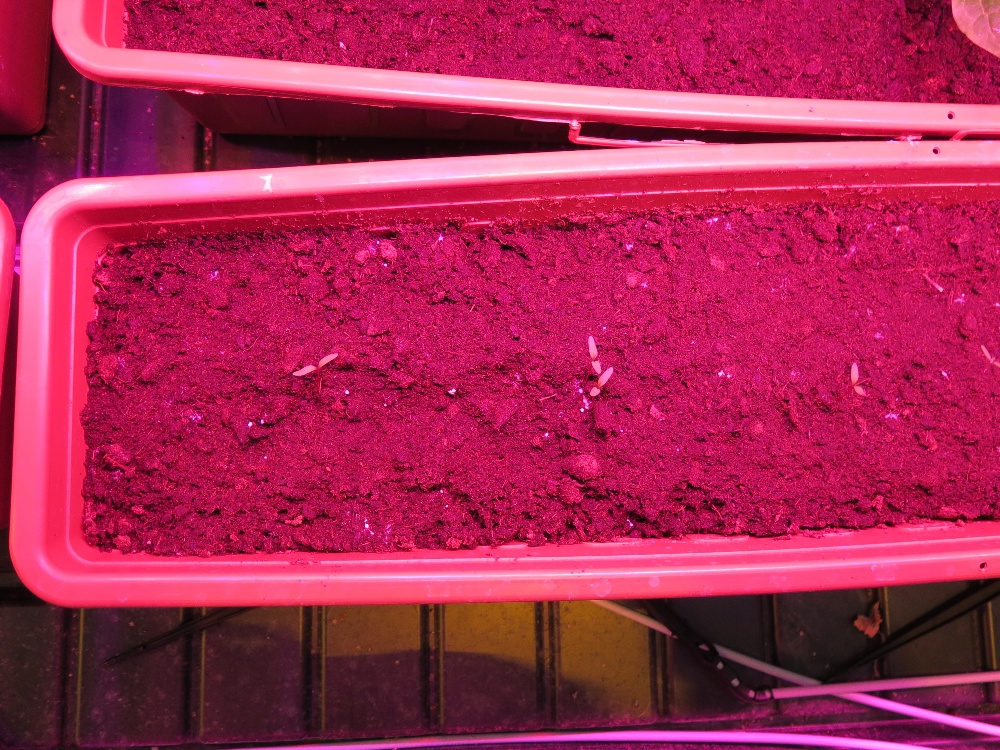crop: (290, 351, 339, 377), (591, 368, 614, 401), (586, 335, 602, 375), (850, 361, 865, 398)
